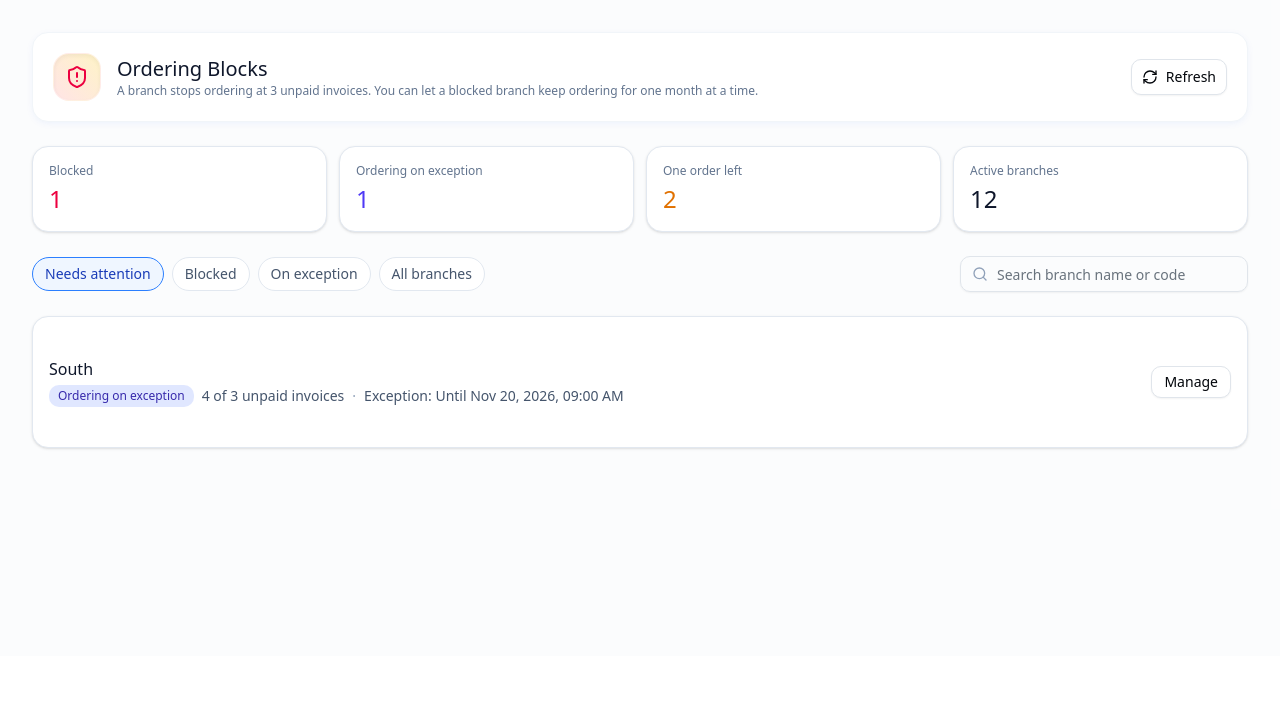
OrderingBlocksWorkspace › offers no grant inside the panel once an exception is in force
Click the button with aria-label "Manage ordering for South": coordinates (1191, 382) [1151,366,1231,398]
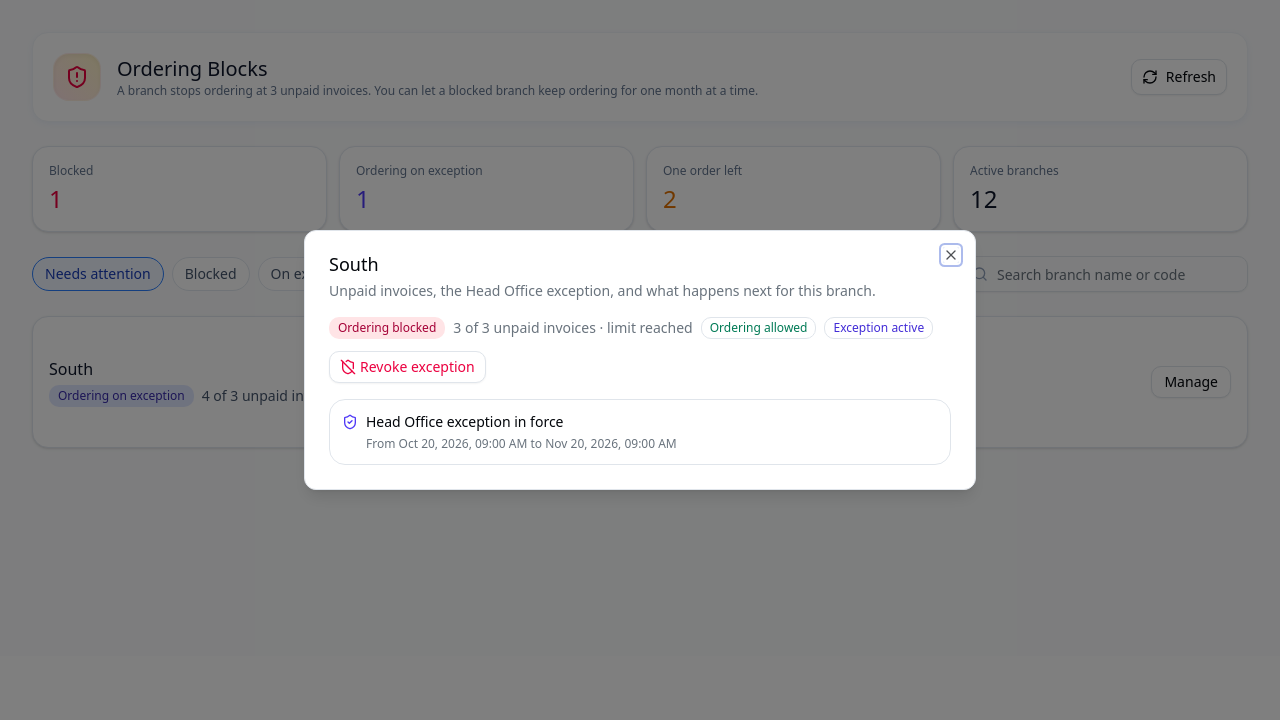
Expected: the button "Revoke exception" is shown, [329,351,486,383]
